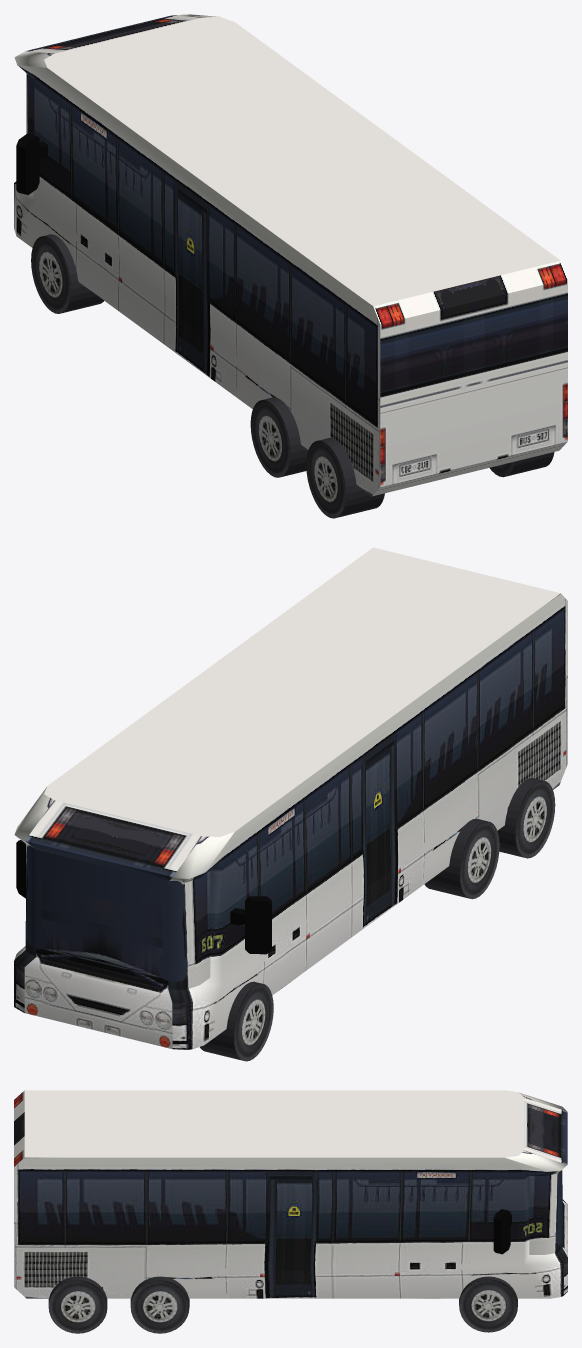
The model's file is Bus.fbx.
3 renders of one model, top to bottom at view 1: azimuth 30°, elevation 25°; view 2: azimuth 150°, elevation 25°; view 3: azimuth 270°, elevation 25°, orthographic. The views are drawn at different scales.
Visible parts, largest first — view 1: Cylinder.005; view 2: Cylinder.005; view 3: Cylinder.005.
Boxes of the visible parts, <box> form: Cylinder.005: <box>14,14,567,518</box>; Cylinder.005: <box>14,547,567,1061</box>; Cylinder.005: <box>14,1090,567,1333</box>.
Size of the model in its own units: 1215 by 1059 by 3091.
